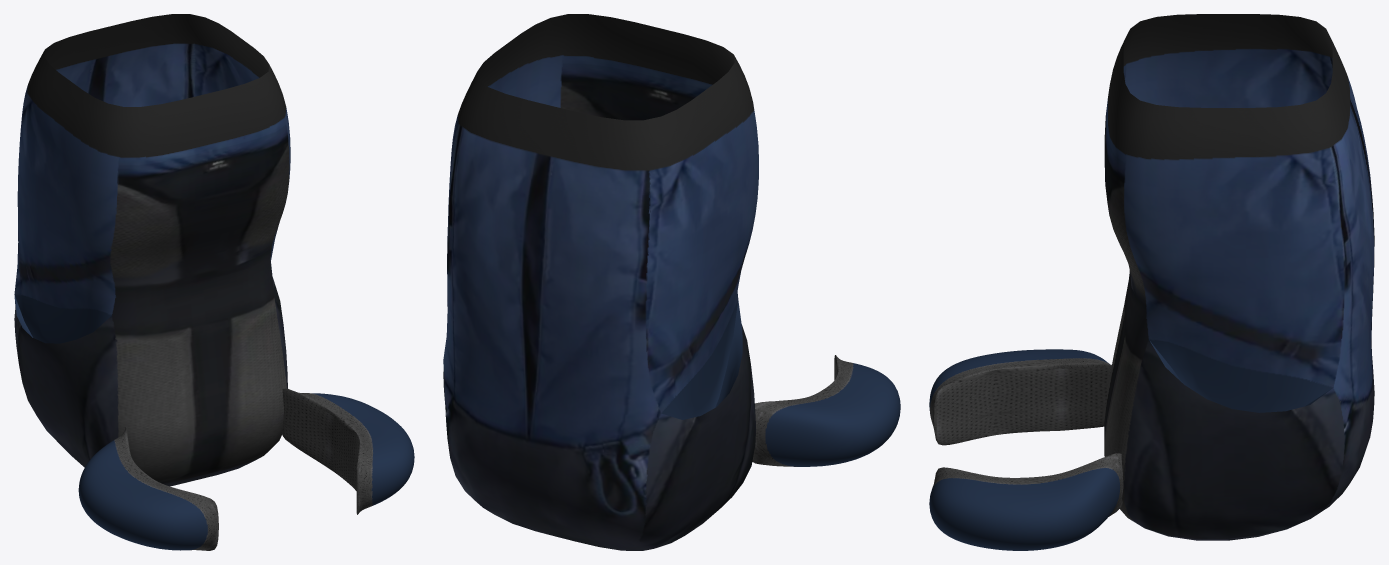
Rendered from Backpack.fbx.
3 renders of one model, left to right at view 1: azimuth 30°, elevation 25°; view 2: azimuth 150°, elevation 25°; view 3: azimuth 270°, elevation 25°, orthographic. The views are drawn at different scales.
Parts seen in each view (by area): view 1: Backpack; view 2: Backpack; view 3: Backpack.
Boxes of the visible parts, <box> form: Backpack: <box>14,14,414,550</box>; Backpack: <box>443,14,900,550</box>; Backpack: <box>929,14,1374,550</box>.
Bounding box in the file's own units: 408 × 511 × 451.
1 material, 1 textured.
